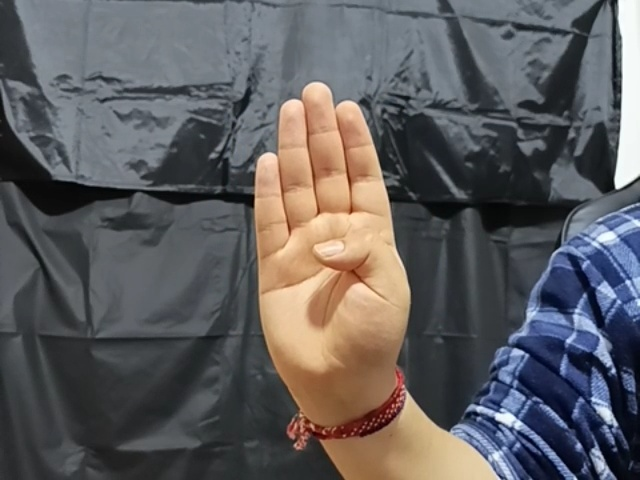B: (245, 77, 419, 401)
